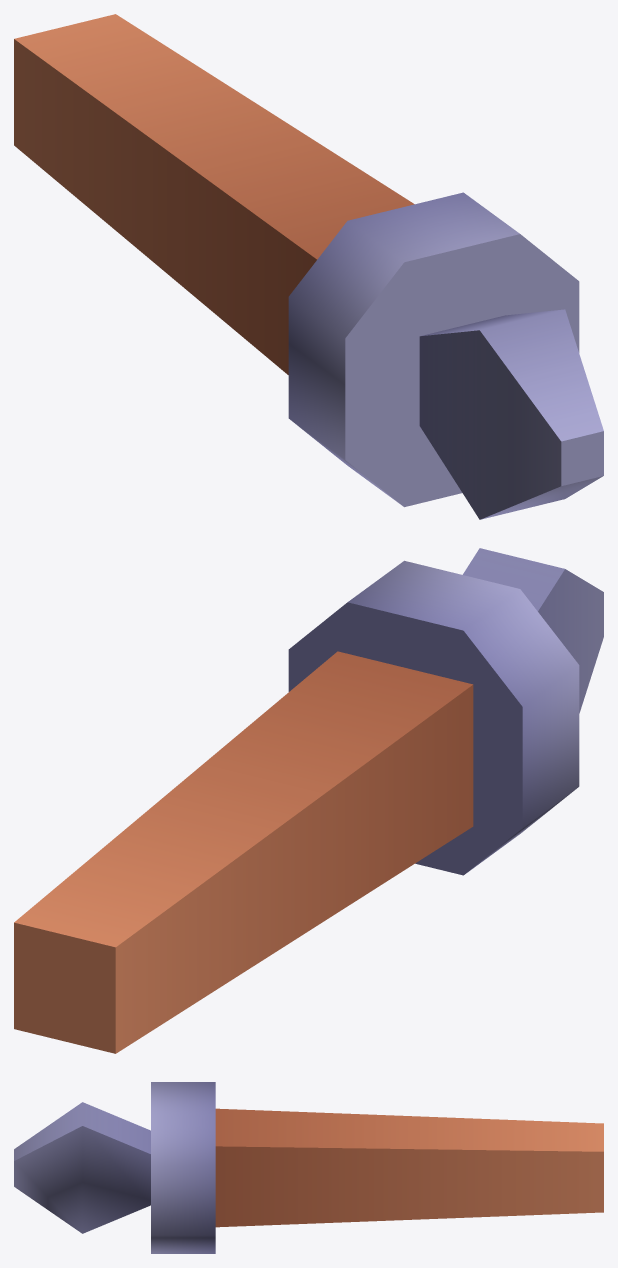
Rendered from weapon-arrow.obj.
3 renders of one model, top to bottom at view 1: azimuth 30°, elevation 25°; view 2: azimuth 150°, elevation 25°; view 3: azimuth 270°, elevation 25°, orthographic. The views are drawn at different scales.
Visible parts, largest first — view 1: weapon-arrow; view 2: weapon-arrow; view 3: weapon-arrow.
Boxes of the visible parts, x1=… form: weapon-arrow: x1=14, y1=14, x2=603, y2=519; weapon-arrow: x1=14, y1=548, x2=603, y2=1053; weapon-arrow: x1=14, y1=1082, x2=603, y2=1253.
Bounding box in the file's own units: 0.119 × 0.119 × 0.4559.
Materials: 1 (1 with a texture image).
